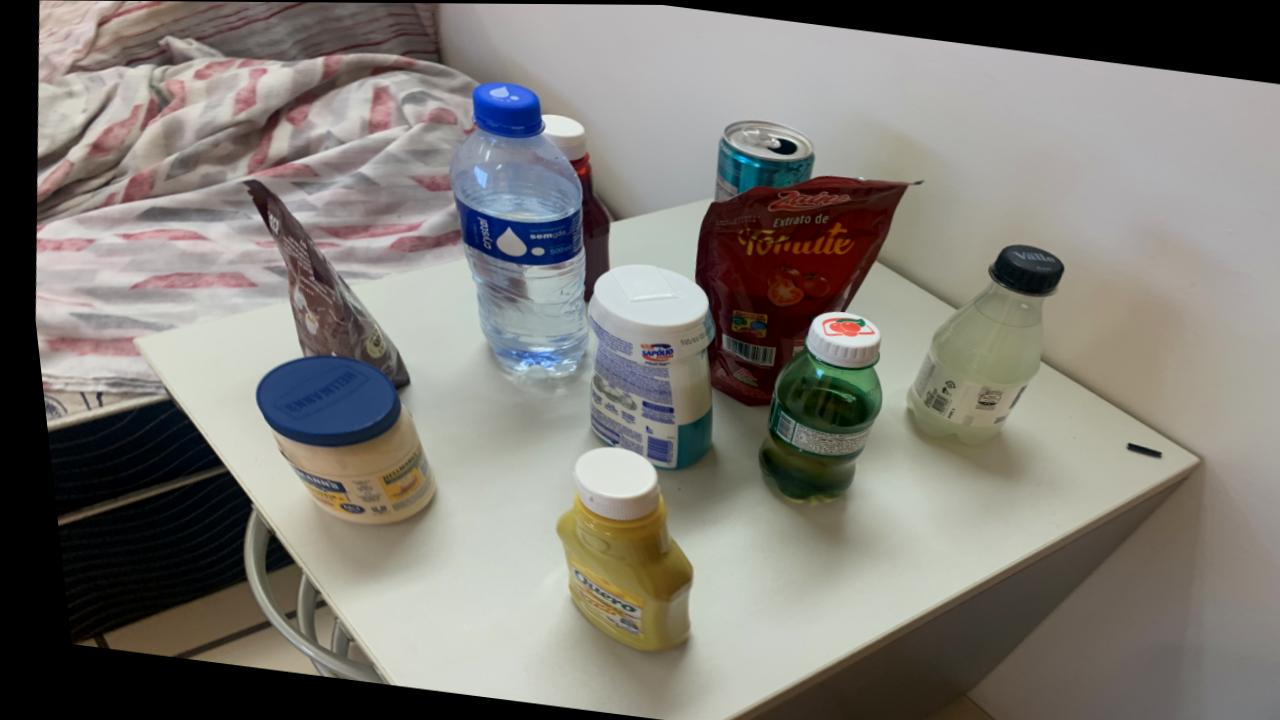Cleaner-Cleanup_Items: (581, 263, 708, 469)
Guarana-Drinks: (749, 310, 874, 500)
Ketchup-Pantry_Items: (539, 114, 606, 300)
Mayonnaise-Pantry_Items: (247, 355, 423, 524)
Mustard-Pantry_Items: (545, 446, 679, 650)
Soda-Drinks: (897, 243, 1058, 443)
Tomato_Sauce-Pantry_Items: (690, 175, 905, 404), (240, 179, 401, 386)
Tonic-Drinks: (710, 119, 810, 201)
Water_Bottle-Drinks: (446, 81, 580, 375)
